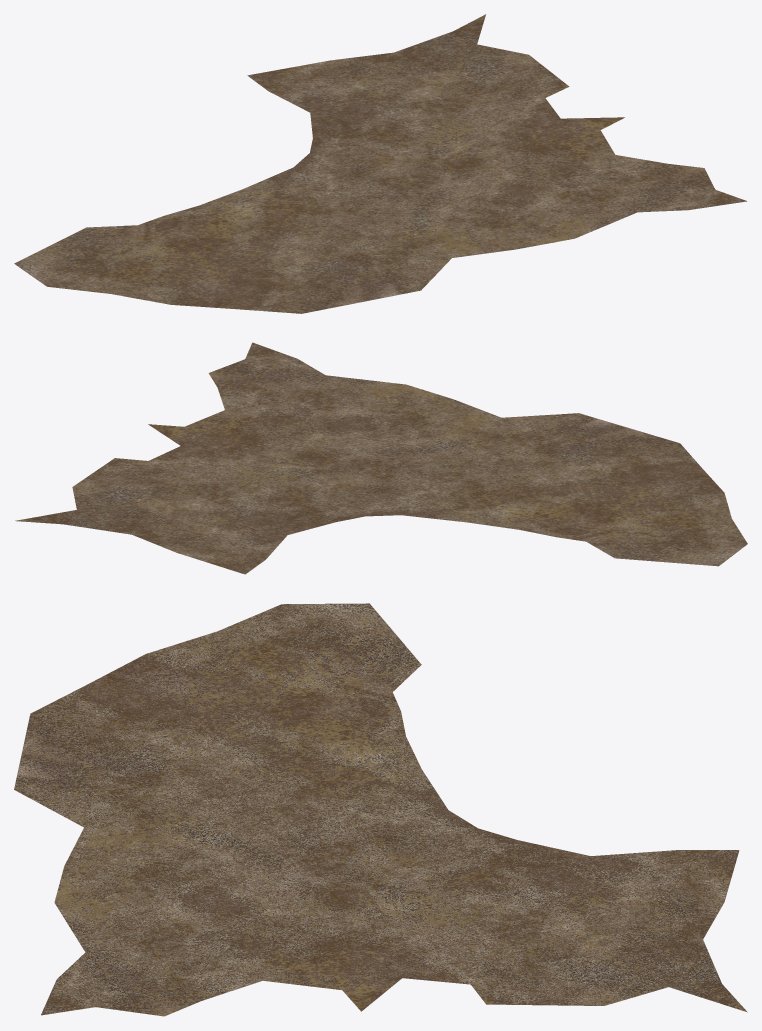
Rendered from suelo_t_4.obj.
The picture shows the model from 3 angles, top to bottom: view 1: azimuth 30°, elevation 25°; view 2: azimuth 150°, elevation 25°; view 3: azimuth 270°, elevation 25°; orthographic projection. The views are drawn at different scales.
Parts seen in each view (by area): view 1: suelo_t_4; view 2: suelo_t_4; view 3: suelo_t_4.
Part boxes in pixels (x1=…): suelo_t_4: x1=14, y1=14, x2=746, y2=313; suelo_t_4: x1=15, y1=342, x2=747, y2=574; suelo_t_4: x1=14, y1=603, x2=747, y2=1016.
Bounding box in the file's own units: 413 × 0 × 310.
1 material, 1 textured.
